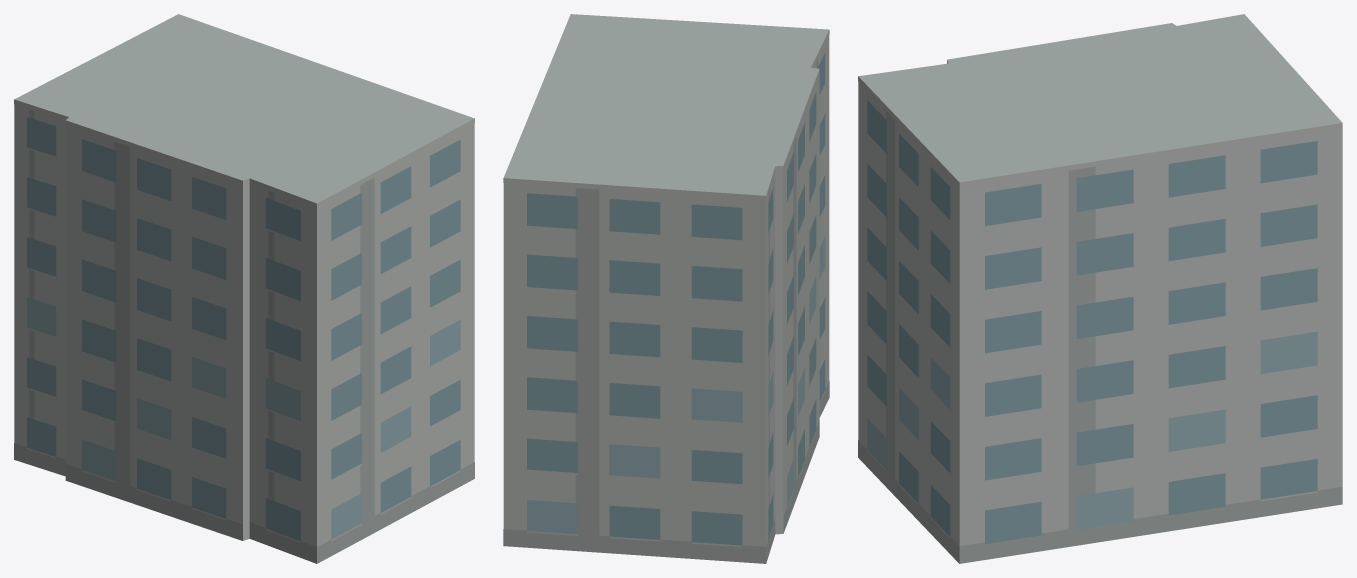
Rendered from survey-upis-32848823.glb.
3 views of the same model, side by side, from view 1: azimuth 30°, elevation 25°; view 2: azimuth 150°, elevation 25°; view 3: azimuth 270°, elevation 25° (orthographic). The views are drawn at different scales.
Visible parts, largest first — view 1: survey-upis-32848823.tmp; view 2: survey-upis-32848823.tmp; view 3: survey-upis-32848823.tmp.
Part boxes in pixels (bbox=[...]): survey-upis-32848823.tmp: bbox=[14, 14, 474, 563]; survey-upis-32848823.tmp: bbox=[503, 14, 829, 563]; survey-upis-32848823.tmp: bbox=[858, 14, 1342, 563].
Bounding box in the file's own units: 16.76 × 17.7 × 20.38.
